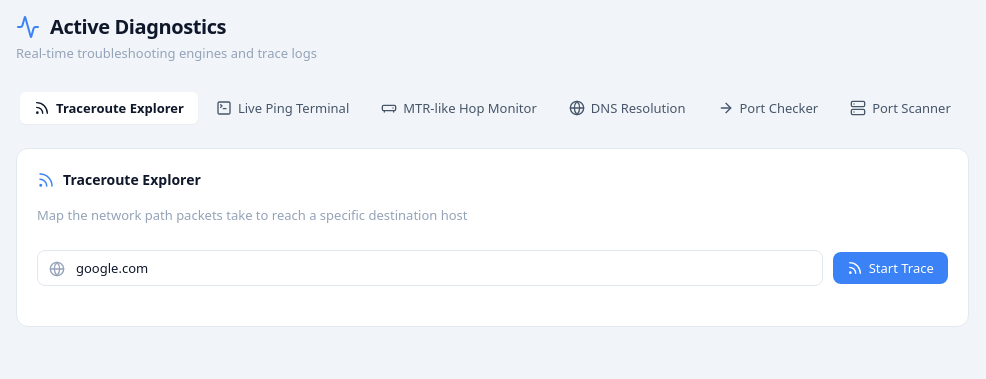
Scenario: Diagnostics run ownership › clears an in-flight DNS lookup on epoch change and ignores its late replies
Click the button "DNS Resolution": (627, 108) 555,92 -> 700,124
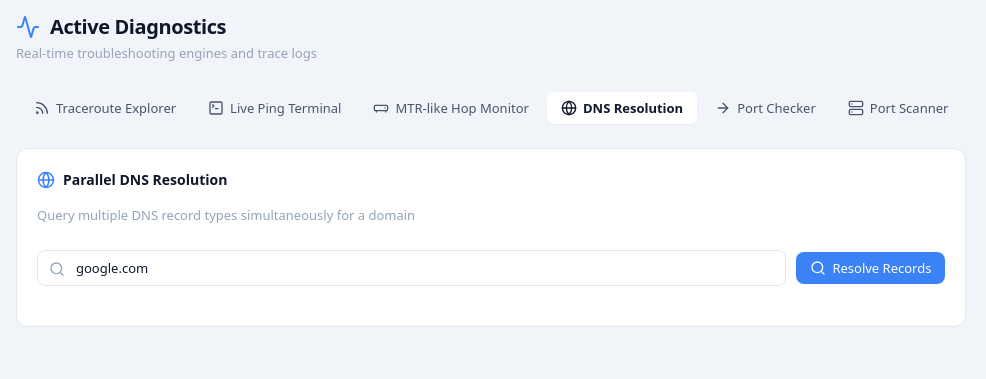
Click the button "Resolve Records": (871, 267) 796,251 -> 945,283
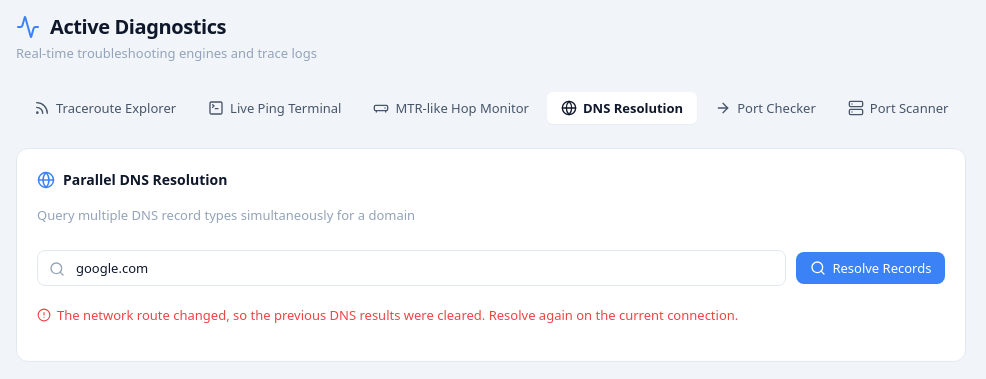
expect the text "previous DNS results were cleared" is shown: met, box 57,305 -> 738,323
